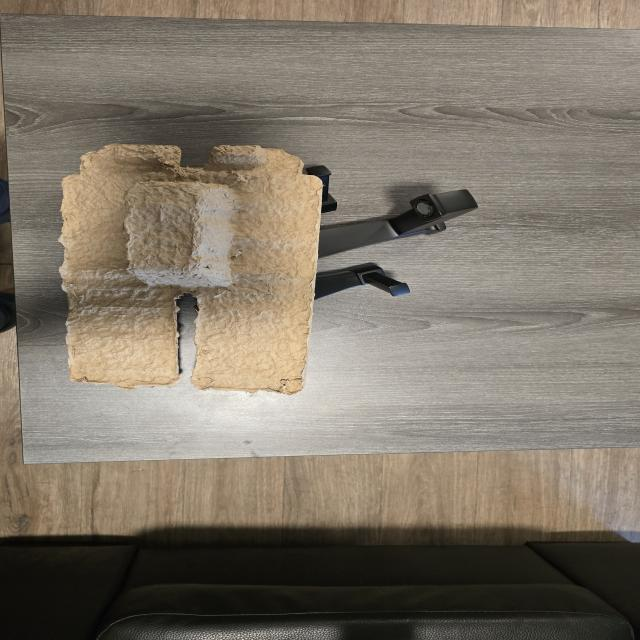9o: (319, 189, 478, 259), (315, 263, 409, 299)
